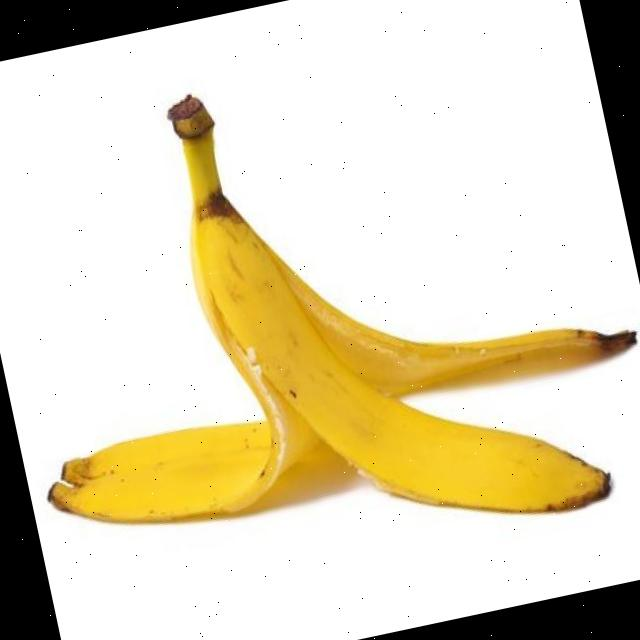banana-peel: (0, 11, 640, 616)
